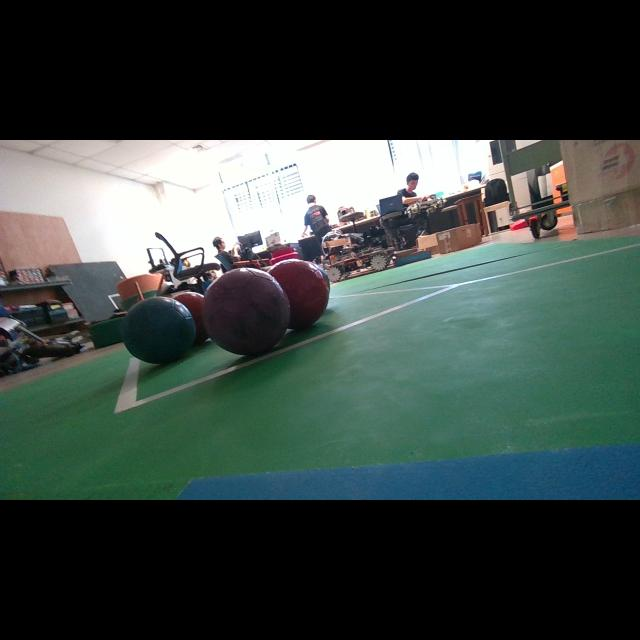B: (122, 296, 196, 364)
P: (202, 269, 290, 355)
R: (269, 259, 330, 329), (174, 292, 209, 343)
